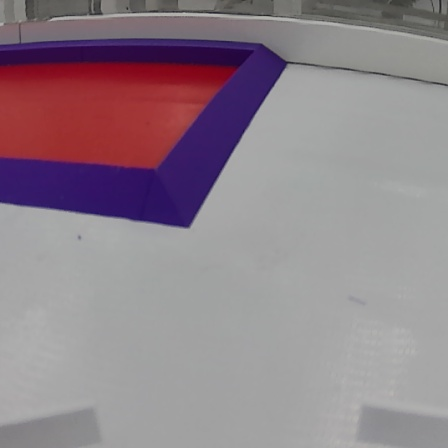red_aim: (0, 41, 290, 229)
